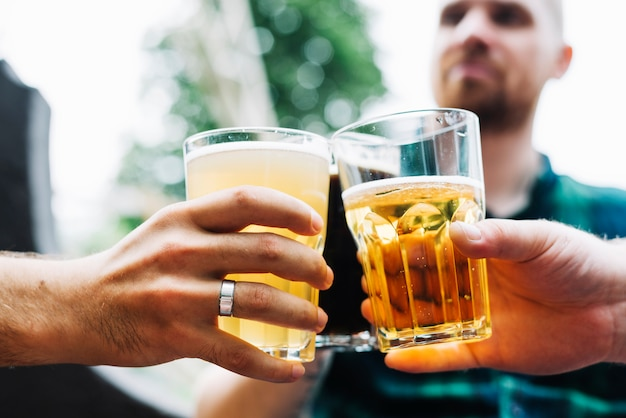alcohol: (331, 107, 493, 353), (183, 126, 331, 366)
